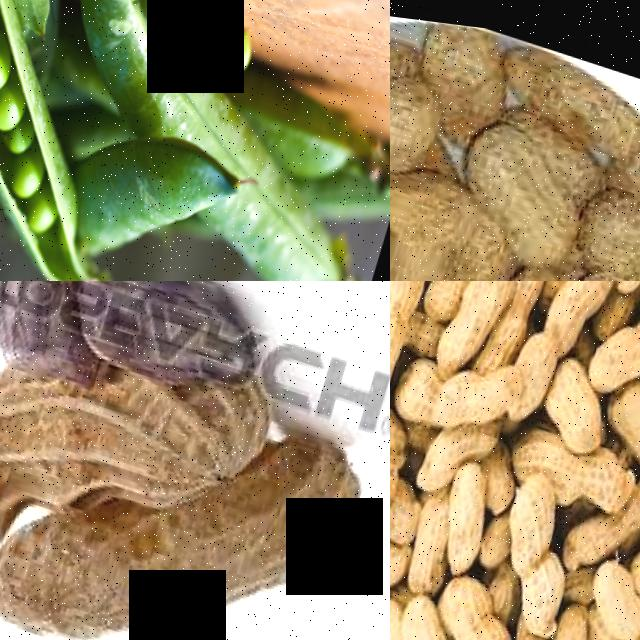peanuts: (390, 130, 477, 257), (500, 459, 579, 584), (390, 281, 440, 446), (397, 348, 487, 436), (436, 566, 536, 640), (408, 476, 469, 596), (540, 365, 622, 452), (446, 457, 506, 572), (441, 281, 522, 365), (547, 281, 619, 360), (590, 547, 640, 632), (592, 301, 640, 388), (539, 590, 609, 640), (407, 613, 468, 640)
peas: (0, 90, 66, 204), (0, 0, 36, 101)
